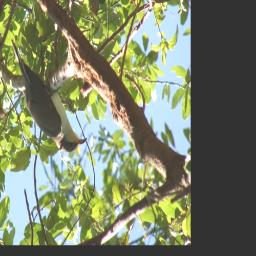Cuckoo: (12, 38, 88, 152)
